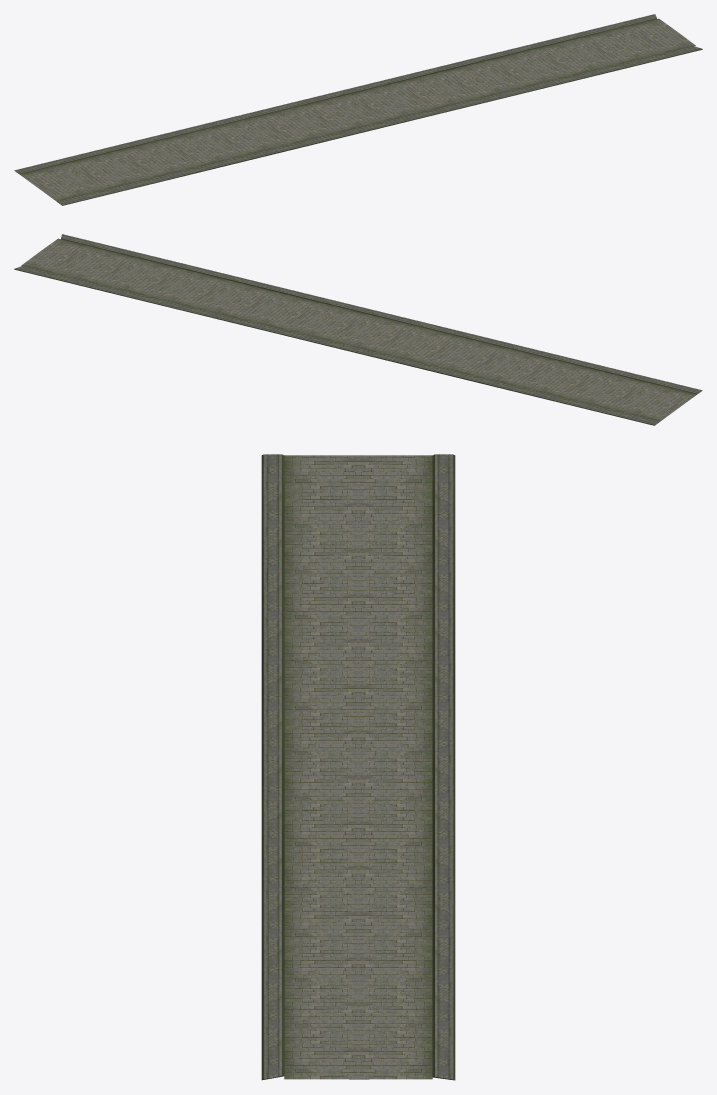
File: zc_suzhou_dimian06.FBX
3 views of the same model, one above another, from view 1: azimuth 30°, elevation 25°; view 2: azimuth 150°, elevation 25°; view 3: azimuth 270°, elevation 25° (orthographic). The views are drawn at different scales.
Parts seen in each view (by area): view 1: zc_suzhou_dimian06; view 2: zc_suzhou_dimian06; view 3: zc_suzhou_dimian06.
Boxes of the visible parts, box(x1,y1,x2,y2) form: zc_suzhou_dimian06: box(14, 14, 702, 205); zc_suzhou_dimian06: box(14, 234, 702, 425); zc_suzhou_dimian06: box(261, 454, 455, 1080).
Size of the model in its own units: 7360 by 5.4 by 965.
Materials: 1 (1 with a texture image).
